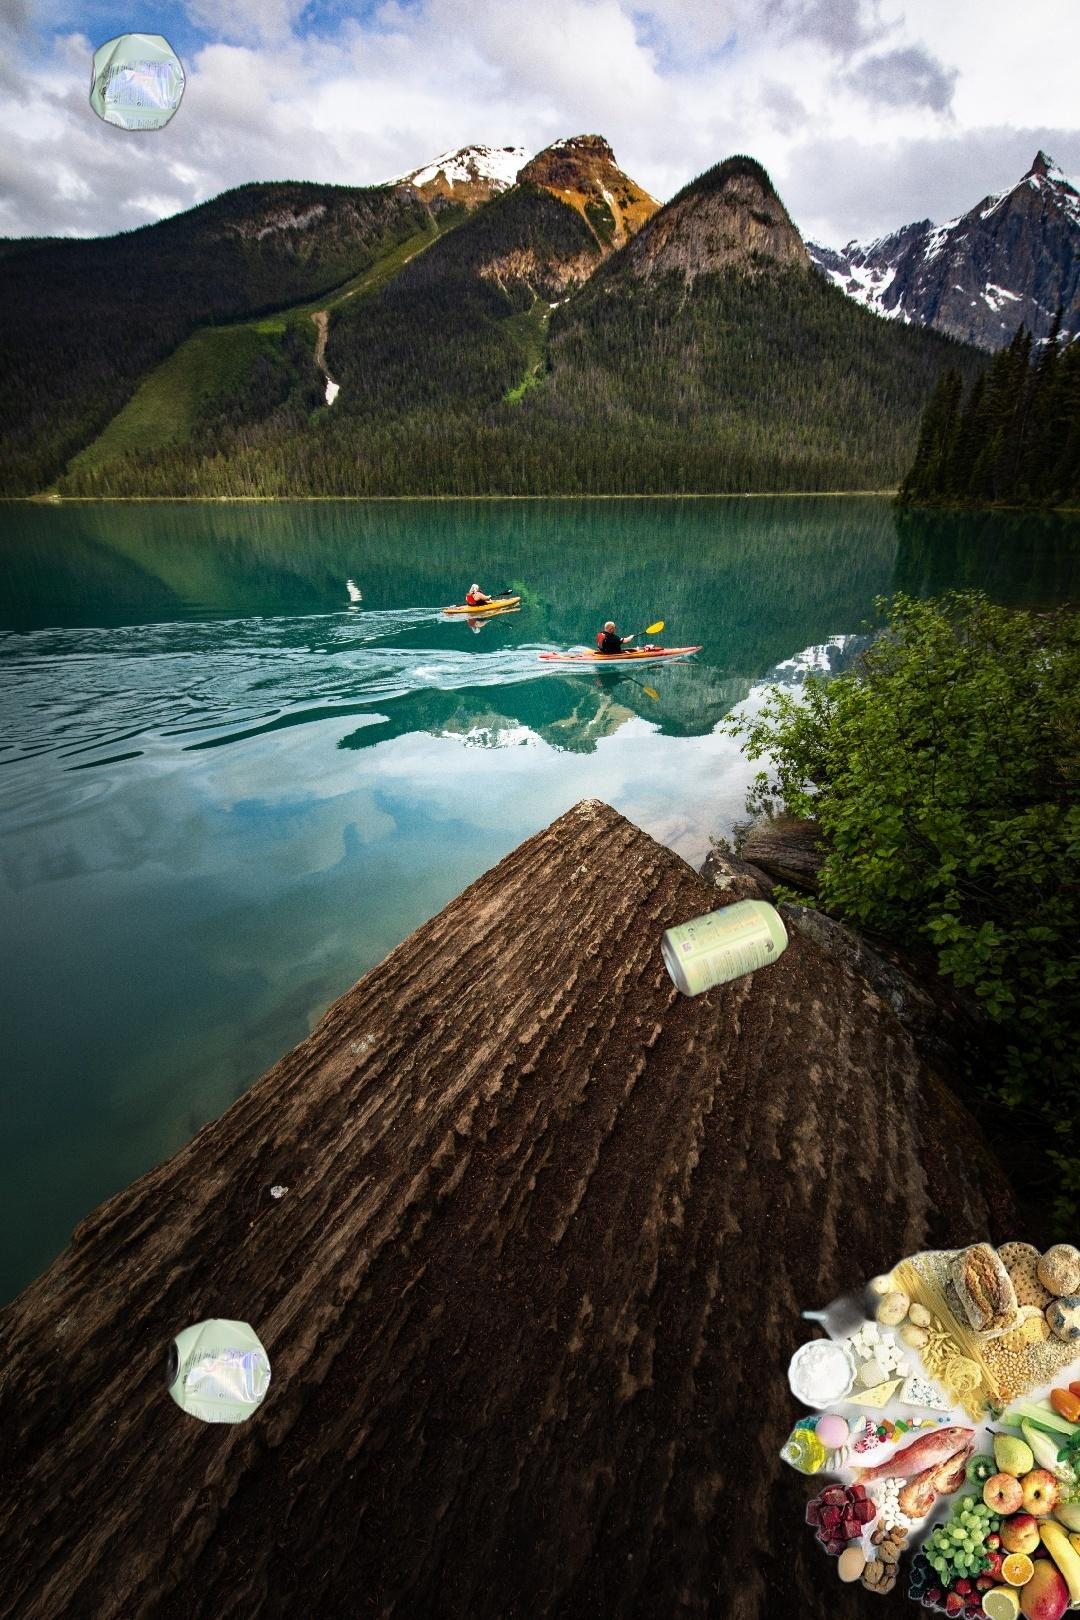biological: (774, 1240, 1080, 1620)
metal-cans: (162, 1311, 276, 1455), (655, 892, 793, 1004), (86, 27, 190, 136)
